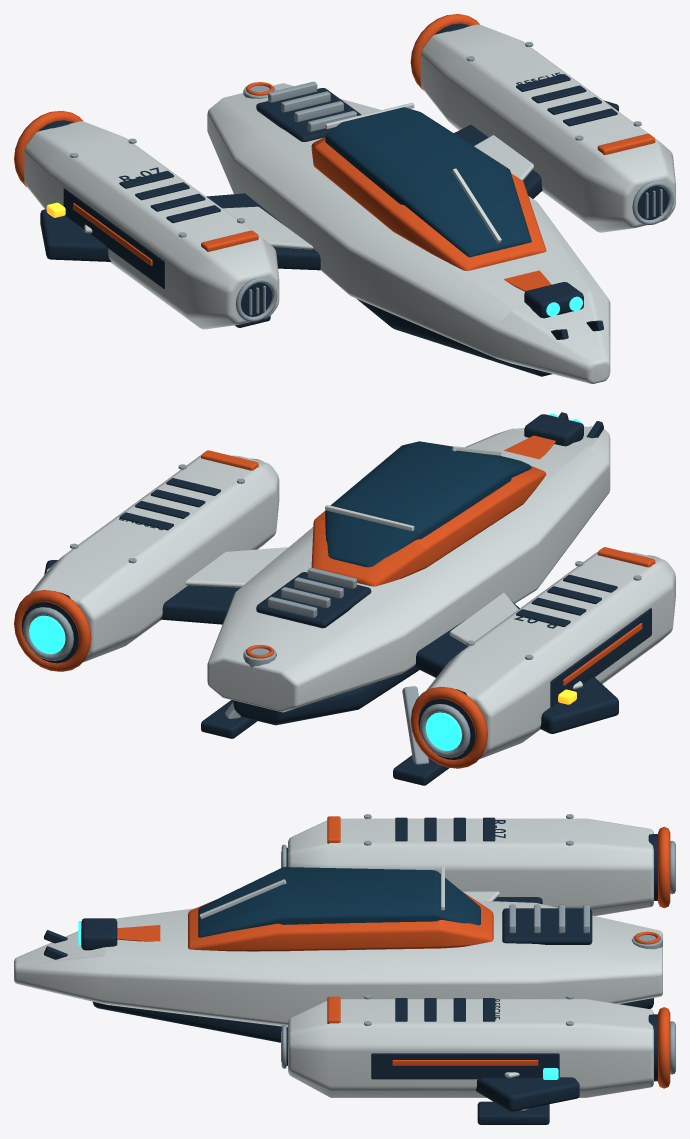
Rendered from kestrel_rescue_ship.glb.
3 renders of one model, top to bottom at view 1: azimuth 30°, elevation 25°; view 2: azimuth 150°, elevation 25°; view 3: azimuth 270°, elevation 25°, orthographic. The views are drawn at different scales.
Parts seen in each view (by area): view 1: Pressure hull, Engine nacelle 1, Engine nacelle -1, Faceted optical canopy, Cockpit rim, Swept loadbearing wing -1, Outer nacelle access panel -1, Dorsal service hatch, Wing upper armor -1, Ventral armored keel, Forward sensor bay, Wing upper armor 1 (+14 smaller); view 2: Pressure hull, Engine nacelle 1, Engine nacelle -1, Faceted optical canopy, Cockpit rim, Swept loadbearing wing -1, Ventral armored keel, Swept loadbearing wing 1, Engine orange cowl 1, Engine orange cowl -1, Wing upper armor 1, Outer nacelle access panel -1 (+21 smaller); view 3: Pressure hull, Engine nacelle 1, Engine nacelle -1, Faceted optical canopy, Cockpit rim, Outer nacelle access panel 1, Dorsal service hatch, Swept loadbearing wing 1, Ventral armored keel, Landing foot 1, Forward sensor bay, Engine orange cowl 1 (+4 smaller).
Part boxes in pixels (x1,y1,x2,y2): Pressure hull: (207,83,610,383); Engine nacelle 1: (420,24,675,232); Engine nacelle -1: (24,121,279,329); Faceted optical canopy: (325,107,531,257); Cockpit rim: (311,137,546,270); Swept loadbearing wing -1: (40,193,320,270); Outer nacelle access panel -1: (63,188,164,288); Dorsal service hatch: (256,88,361,141); Wing upper armor -1: (84,206,313,249); Ventral armored keel: (356,298,552,376); Forward sensor bay: (524,282,583,318); Wing upper armor 1: (474,135,533,180); Pressure hull: (207,426,610,712); Engine nacelle 1: (29,455,279,662); Engine nacelle -1: (426,552,675,759); Faceted optical canopy: (325,441,531,567); Cockpit rim: (311,466,546,586); Swept loadbearing wing -1: (413,599,618,733); Ventral armored keel: (233,667,418,725); Swept loadbearing wing 1: (44,560,240,624); Engine orange cowl 1: (14,590,91,671); Engine orange cowl -1: (410,686,487,768); Wing upper armor 1: (185,547,288,587); Outer nacelle access panel -1: (550,608,651,707); Pressure hull: (14,900,662,1027); Engine nacelle 1: (288,999,653,1097); Engine nacelle -1: (288,818,653,915); Faceted optical canopy: (198,867,480,937); Cockpit rim: (188,891,493,951); Outer nacelle access panel 1: (371,1053,559,1079); Dorsal service hatch: (502,908,592,944); Swept loadbearing wing 1: (476,1077,579,1111); Ventral armored keel: (92,998,653,1042); Landing foot 1: (477,1101,549,1124); Forward sensor bay: (81,918,117,950); Engine orange cowl 1: (658,1007,670,1088).
Size of the model in its own units: 5.47 by 1.92 by 5.89.
